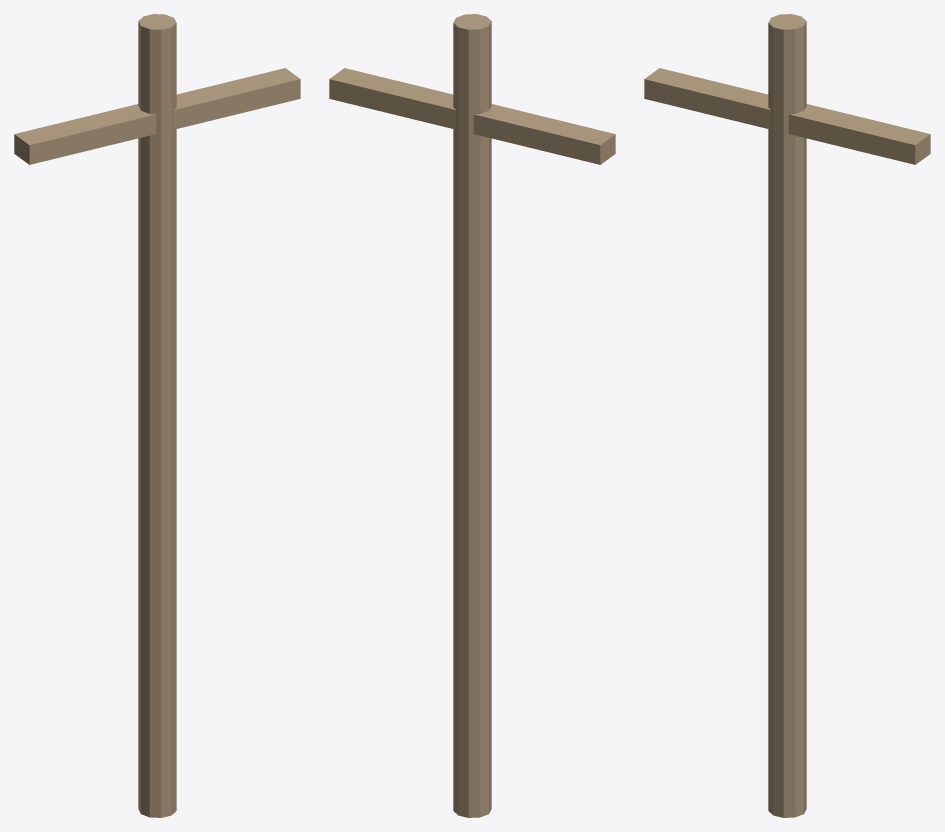
File: utility-pole.glb
The picture shows the model from 3 angles, left to right: view 1: azimuth 30°, elevation 25°; view 2: azimuth 150°, elevation 25°; view 3: azimuth 330°, elevation 25°; orthographic projection.
Visible parts, largest first — view 1: utility-pole; view 2: utility-pole; view 3: utility-pole.
Part boxes in pixels (left/top/right/bottom): utility-pole: left=14, top=14, right=300, bottom=817; utility-pole: left=329, top=14, right=615, bottom=817; utility-pole: left=644, top=14, right=930, bottom=817.
Bounding box in the file's own units: 0.36 × 1 × 0.0418.
